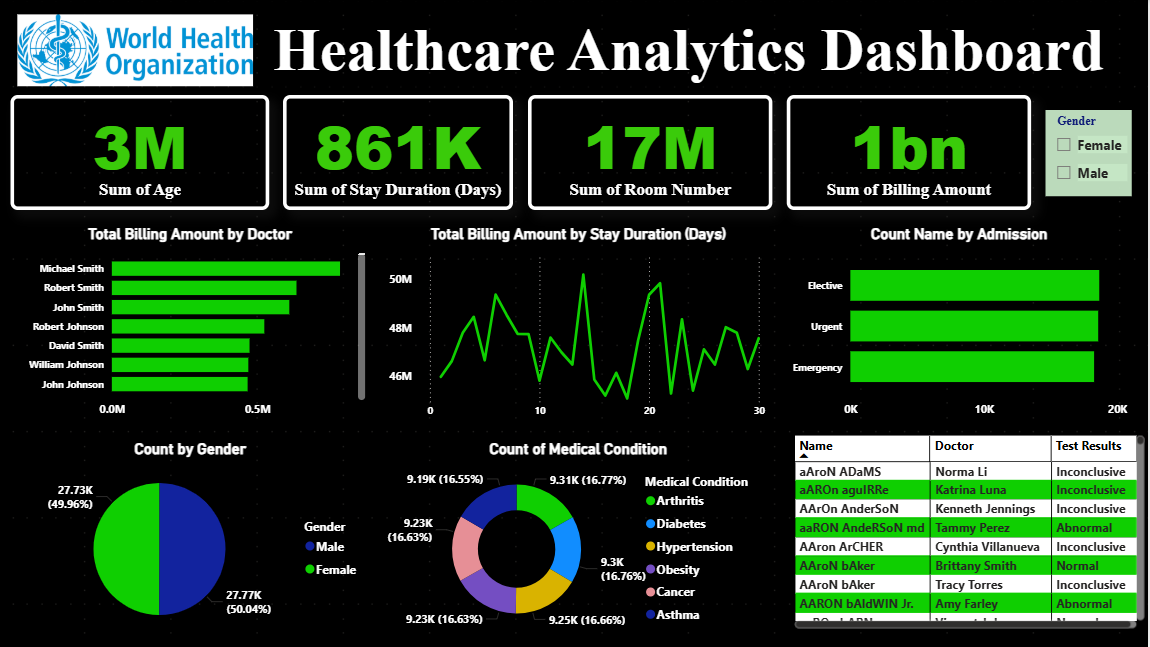

The dashboard page shown, as its layout file describes it:
{"tool":"powerbi","page":{"name":"Page 1","canvas":[1280,720],"ordinal":0},"visuals":[{"type":"card","fields":{"Values":["Sum(healthcare_dataset.Stay Duration (Days))"]},"box":[317.4,105.9,256,128],"z":0},{"type":"card","fields":{"Values":["Sum(healthcare_dataset.Age)"]},"box":[13.4,105.9,288,128],"z":1000},{"type":"card","fields":{"Values":["Sum(healthcare_dataset.Room Number)"]},"box":[589.4,105.9,272,128],"z":2000},{"type":"card","fields":{"Values":["Sum(healthcare_dataset.Billing Amount)"]},"box":[877.4,105.9,272,128],"z":3000},{"type":"pieChart","title":"Count by Gender","fields":{"Category":["healthcare_dataset.Gender"],"Y":["CountNonNull(healthcare_dataset.Name)"]},"box":[13.4,489.9,400,224],"z":4000},{"type":"barChart","title":"Count Name by Admission ","fields":{"Y":["CountNonNull(healthcare_dataset.Name)"],"Category":["healthcare_dataset.Admission Type"]},"box":[877.4,249.9,384,224],"z":5000},{"type":"donutChart","title":"Count of Medical Condition ","fields":{"Category":["healthcare_dataset.Medical Condition"],"Y":["CountNonNull(healthcare_dataset.Medical Condition)"]},"box":[429.4,489.9,432,224],"z":6000},{"type":"lineChart","title":"Total Billing Amount by Stay Duration (Days)","fields":{"Y":["Sum(healthcare_dataset.Billing Amount)"],"Category":["healthcare_dataset.Stay Duration (Days)"]},"box":[429.4,249.9,432,224],"z":7000},{"type":"clusteredBarChart","title":"Total Billing Amount by Doctor","fields":{"Category":["healthcare_dataset.Doctor"],"Y":["Sum(healthcare_dataset.Billing Amount)"]},"box":[13.4,249.9,400,224],"z":8000},{"type":"tableEx","fields":{"Values":["healthcare_dataset.Name","healthcare_dataset.Doctor","healthcare_dataset.Test Results"]},"box":[880,480,400,224],"z":9000},{"type":"slicer","fields":{"Values":["healthcare_dataset.Gender"]},"box":[1165.4,121.9,96,96],"z":10000},{"type":"shape","title":"Healthcare Analytics Dashboard","box":[272,16,992,80],"z":11000},{"type":"image","box":[16,0,272,112],"z":12000}]}

Visuals, with their boxes in screenshot pixels (x1, y1, x2, y2), scaled from the page's 1280x720 canvas onto the 1150x647 screenshot:
card - Sum(healthcare_dataset.Stay Duration (Days)): locate(285, 95, 515, 210)
card - Sum(healthcare_dataset.Age): locate(12, 95, 271, 210)
card - Sum(healthcare_dataset.Room Number): locate(530, 95, 774, 210)
card - Sum(healthcare_dataset.Billing Amount): locate(788, 95, 1033, 210)
"Count by Gender" pieChart: locate(12, 440, 371, 642)
"Count Name by Admission " barChart: locate(788, 225, 1133, 426)
"Count of Medical Condition " donutChart: locate(386, 440, 774, 642)
"Total Billing Amount by Stay Duration (Days)" lineChart: locate(386, 225, 774, 426)
"Total Billing Amount by Doctor" clusteredBarChart: locate(12, 225, 371, 426)
tableEx - healthcare_dataset.Name x healthcare_dataset.Doctor: locate(791, 431, 1149, 633)
slicer - healthcare_dataset.Gender: locate(1047, 110, 1133, 196)
"Healthcare Analytics Dashboard" shape: locate(244, 14, 1136, 86)
image: locate(14, 0, 259, 101)
